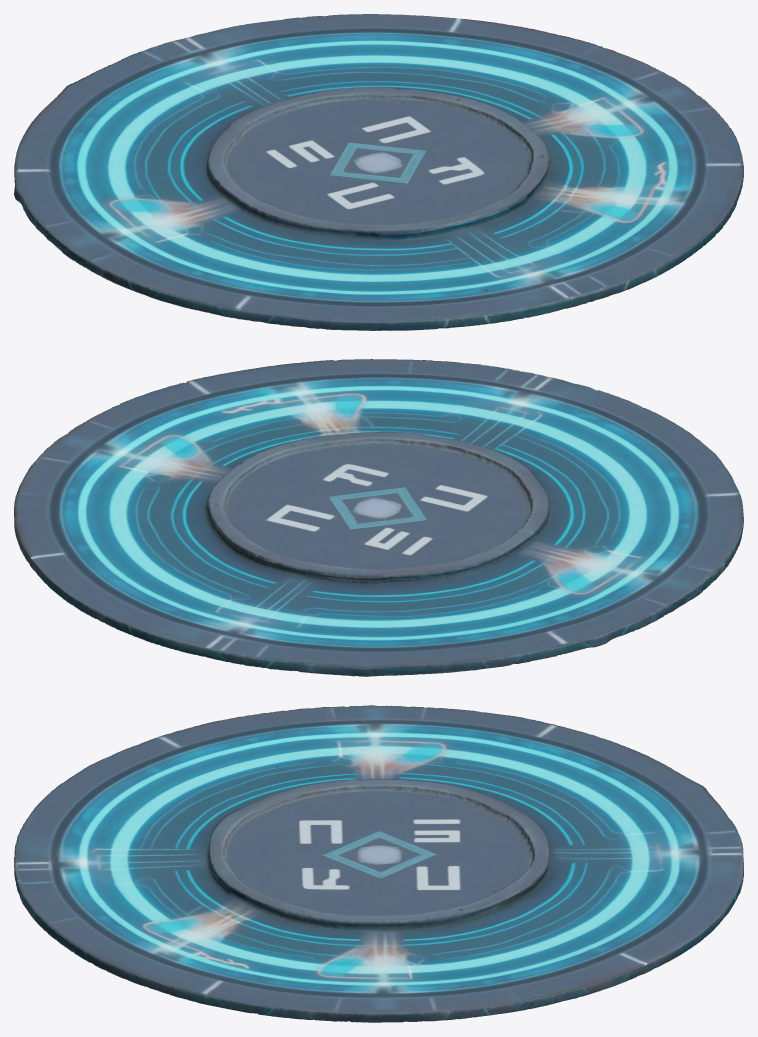
Rendered from Meshy_AI_E4All_Portal_0822215238_texture.fbx.
3 renders of one model, top to bottom at view 1: azimuth 30°, elevation 25°; view 2: azimuth 150°, elevation 25°; view 3: azimuth 270°, elevation 25°, orthographic.
Visible parts, largest first — view 1: Mesh_0; view 2: Mesh_0; view 3: Mesh_0.
Part boxes in pixels (x1,y1,x2,y2): Mesh_0: (14, 14, 743, 330); Mesh_0: (14, 359, 743, 676); Mesh_0: (14, 705, 743, 1022).
Size of the model in its own units: 200 by 5.77 by 200.
1 material, 1 textured.
